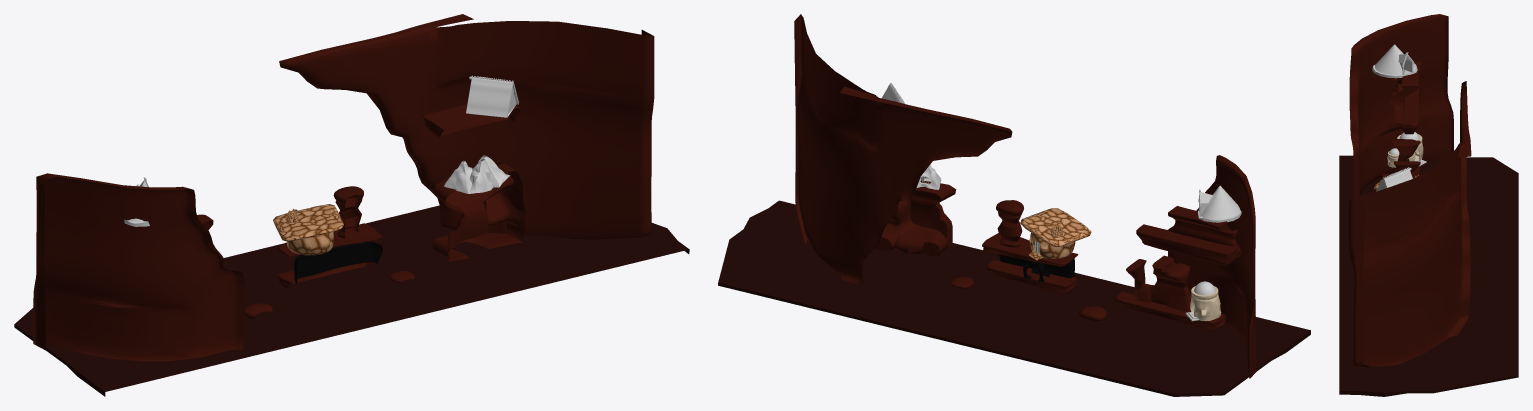
Rendered from Escenario.FBX.
The picture shows the model from 3 angles, left to right: view 1: azimuth 30°, elevation 25°; view 2: azimuth 150°, elevation 25°; view 3: azimuth 270°, elevation 25°; orthographic projection. The views are drawn at different scales.
Visible parts, largest first — view 1: Escenario_Izquierda, Escenario_Derecha, Suelo, Izquierda_abajo, Tunel, Casa Picapiedra, Casa paja, Casa Volcán, Izquierda_arriba, Central; view 2: Suelo, Escenario_Izquierda, Escenario_Derecha, Izquierda_abajo, Derecha_Abajo, Derecha_arriba, Tunel, Casa Picapiedra, Casa Cónica, Casa Arena, Central; view 3: Escenario_Izquierda, Suelo, Escenario_Derecha, Derecha_arriba, Casa Cónica, Derecha_Abajo, Casa Arena, Casa paja.
Part boxes in pixels (x1,y1,x2,y2): Escenario_Izquierda: [279, 14, 654, 240]; Escenario_Derecha: [33, 173, 244, 361]; Suelo: [14, 205, 689, 396]; Izquierda_abajo: [432, 162, 525, 261]; Tunel: [278, 223, 383, 289]; Casa Picapiedra: [273, 204, 344, 255]; Casa paja: [466, 75, 518, 117]; Casa Volcán: [444, 155, 510, 193]; Izquierda_arriba: [423, 104, 519, 139]; Central: [333, 186, 363, 238]; Suelo: [718, 200, 1310, 396]; Escenario_Izquierda: [794, 14, 1012, 284]; Escenario_Derecha: [1168, 155, 1256, 378]; Izquierda_abajo: [875, 180, 956, 256]; Derecha_Abajo: [1115, 255, 1225, 330]; Derecha_arriba: [1136, 206, 1241, 265]; Tunel: [982, 233, 1078, 294]; Casa Picapiedra: [1020, 208, 1091, 260]; Casa Cónica: [1198, 185, 1241, 222]; Casa Arena: [1185, 281, 1221, 321]; Central: [996, 200, 1023, 247]; Escenario_Izquierda: [1348, 81, 1471, 367]; Suelo: [1339, 155, 1518, 396]; Escenario_Derecha: [1349, 14, 1453, 197]; Derecha_arriba: [1389, 62, 1422, 134]; Casa Cónica: [1372, 44, 1417, 78]; Derecha_Abajo: [1392, 139, 1420, 176]; Casa Arena: [1387, 132, 1426, 167]; Casa paja: [1376, 167, 1412, 191].
Size of the model in its own units: 6651 by 2382 by 2111.
